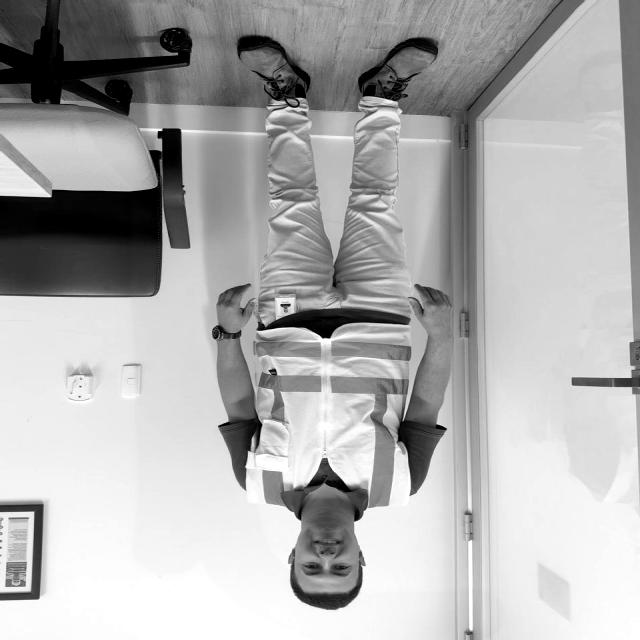Boots: (353, 37, 447, 103), (233, 32, 312, 103)
Vest: (262, 317, 402, 505)
